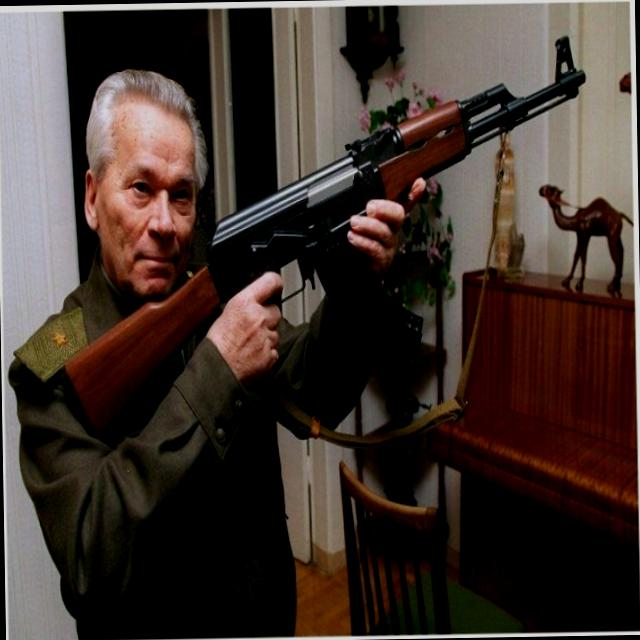ak: (56, 24, 596, 444)
